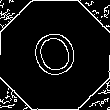O_S: (25, 23, 85, 87)
